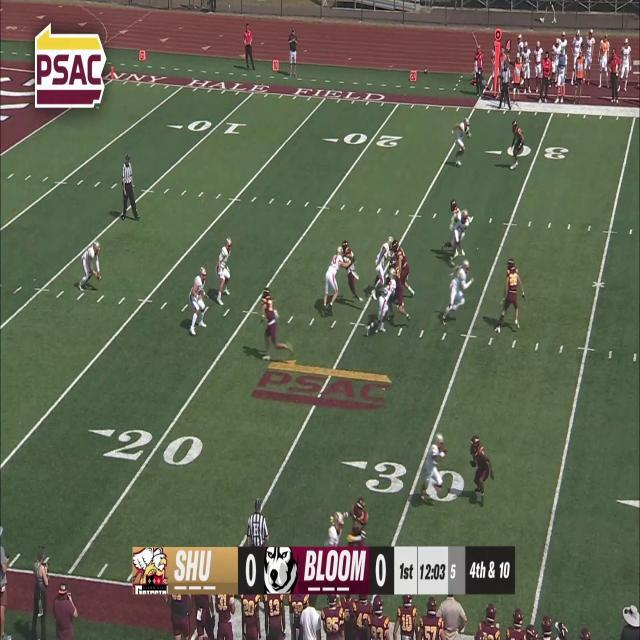football: (96, 272, 101, 281)
